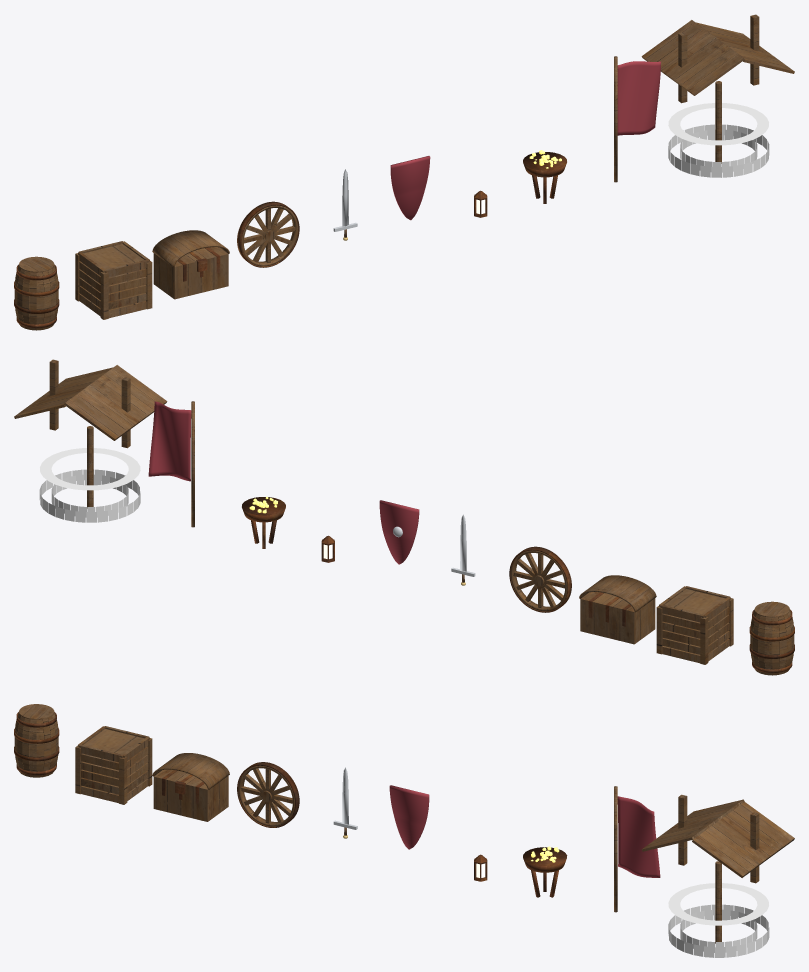
File: props.glb
3 views of the same model, one above another, from view 1: azimuth 30°, elevation 25°; view 2: azimuth 150°, elevation 25°; view 3: azimuth 330°, elevation 25° (orthographic).
Parts seen in each view (by area): view 1: PROP_Well_Roof, PROP_Crate, PROP_Well_Wall, PROP_Banner_Cloth, PROP_Chest_Body, PROP_Barrel_Staves, PROP_Shield_Face, PROP_Well_Posts, PROP_Wheel_Wood, PROP_Chest_Lid, PROP_Brazier_Bowl, PROP_Barrel_Hoops (+2 smaller); view 2: PROP_Well_Roof, PROP_Crate, PROP_Well_Wall, PROP_Banner_Cloth, PROP_Chest_Body, PROP_Barrel_Staves, PROP_Shield_Face, PROP_Well_Posts, PROP_Wheel_Wood, PROP_Chest_Lid, PROP_Brazier_Bowl, PROP_Barrel_Hoops (+2 smaller); view 3: PROP_Well_Roof, PROP_Crate, PROP_Well_Wall, PROP_Banner_Cloth, PROP_Chest_Body, PROP_Barrel_Staves, PROP_Shield_Face, PROP_Well_Posts, PROP_Wheel_Wood, PROP_Chest_Lid, PROP_Brazier_Bowl, PROP_Barrel_Hoops (+4 smaller).
Part boxes in pixels (x1,y1,x2,y2): PROP_Well_Roof: [641, 20, 794, 95]; PROP_Crate: [75, 241, 152, 319]; PROP_Well_Wall: [668, 103, 769, 177]; PROP_Banner_Cloth: [617, 61, 660, 135]; PROP_Chest_Body: [153, 247, 228, 299]; PROP_Barrel_Staves: [14, 264, 58, 330]; PROP_Shield_Face: [390, 156, 430, 220]; PROP_Well_Posts: [678, 14, 759, 163]; PROP_Wheel_Wood: [244, 208, 295, 262]; PROP_Chest_Lid: [152, 230, 229, 267]; PROP_Brazier_Bowl: [523, 152, 566, 203]; PROP_Barrel_Hoops: [14, 264, 59, 328]; PROP_Well_Roof: [14, 365, 167, 440]; PROP_Crate: [656, 586, 733, 664]; PROP_Well_Wall: [39, 448, 140, 522]; PROP_Banner_Cloth: [148, 401, 191, 481]; PROP_Chest_Body: [580, 592, 655, 644]; PROP_Barrel_Staves: [750, 609, 794, 675]; PROP_Shield_Face: [379, 500, 419, 564]; PROP_Well_Posts: [49, 359, 130, 508]; PROP_Wheel_Wood: [513, 553, 564, 607]; PROP_Chest_Lid: [579, 575, 656, 612]; PROP_Brazier_Bowl: [242, 497, 285, 548]; PROP_Barrel_Hoops: [749, 609, 794, 673]; PROP_Well_Roof: [641, 799, 794, 877]; PROP_Crate: [75, 726, 152, 804]; PROP_Well_Wall: [668, 883, 769, 957]; PROP_Banner_Cloth: [617, 796, 660, 877]; PROP_Chest_Body: [153, 769, 228, 821]; PROP_Barrel_Staves: [14, 712, 58, 777]; PROP_Shield_Face: [389, 785, 429, 849]; PROP_Well_Posts: [678, 794, 759, 943]; PROP_Wheel_Wood: [241, 768, 292, 823]; PROP_Chest_Lid: [152, 753, 229, 789]; PROP_Brazier_Bowl: [523, 847, 567, 897]; PROP_Barrel_Hoops: [14, 712, 59, 775].
Bounding box in the file's own units: 11.69 × 2.05 × 1.4.
Materials: 9 (2 with a texture image).
